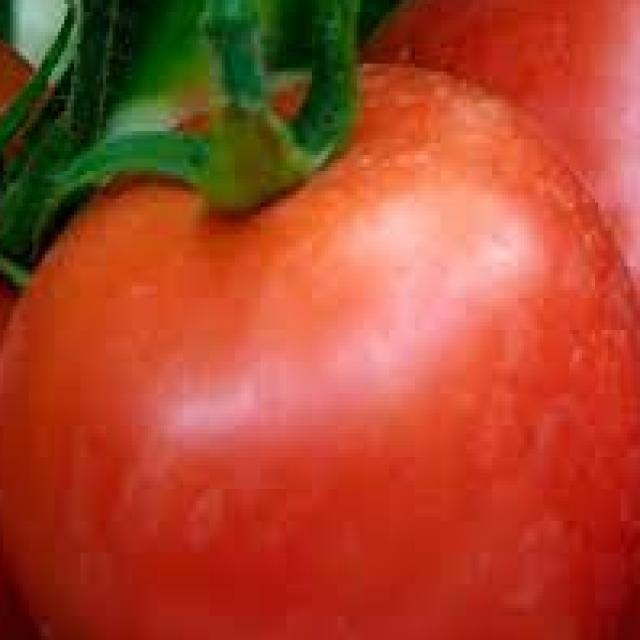Healthy: (4, 62, 640, 637)
